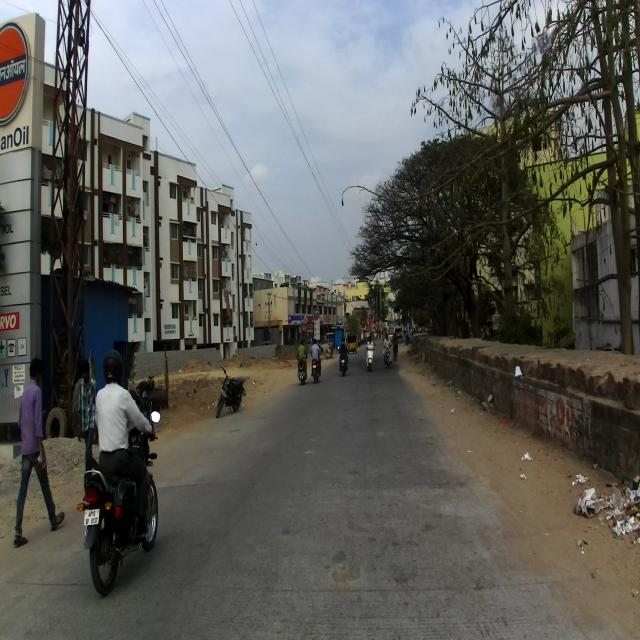motorcycle ahead at: (80, 454, 165, 590)
person ahead at: (16, 352, 64, 547)
